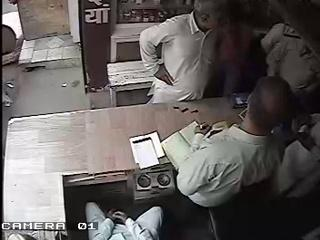Normal: (175, 76, 318, 240), (138, 0, 230, 104), (85, 202, 163, 240)
